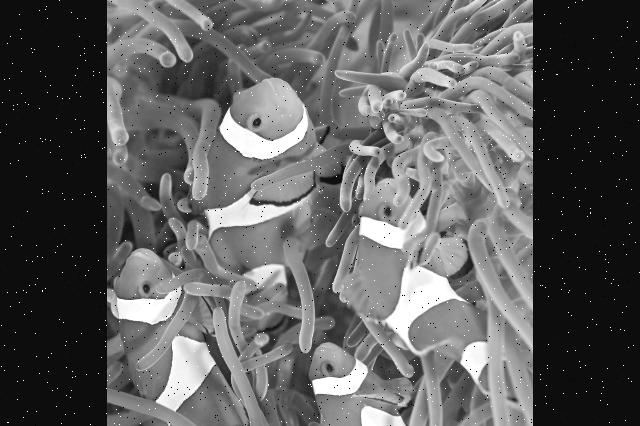Mulut: (235, 57, 302, 119), (118, 234, 164, 273), (366, 166, 410, 204), (304, 333, 348, 365)
Sirip Dada: (243, 153, 324, 213), (348, 382, 414, 420)
Sirip Punggung: (333, 258, 467, 368)
